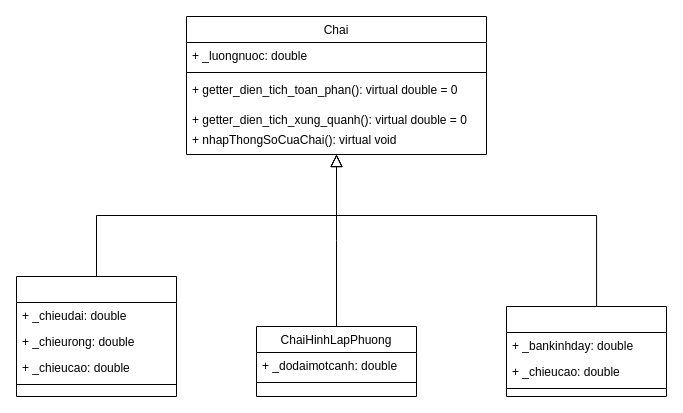
Image size: 683x413. Some labels were removed from this diagram. Here are the shapes that lost their labels. From the top down, the box of each, then its label:
(16, 276, 176, 396): ChaiHinhHopChuNhat
(506, 306, 666, 396): ChaiHinhTruTron
